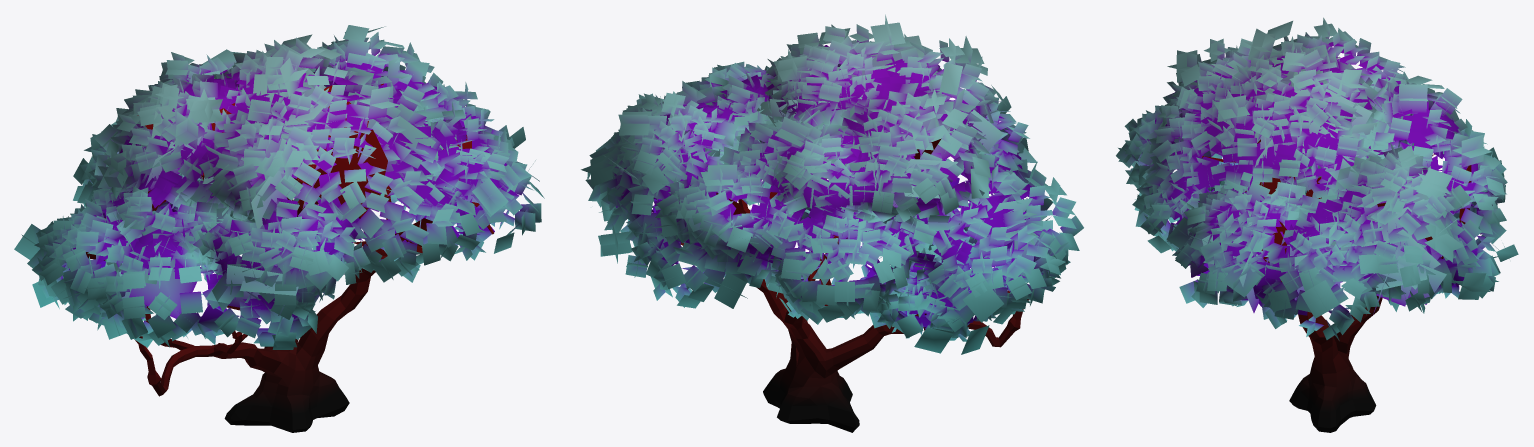
Rendered from SM_Env_Tree_Pohutukawa_01.glb.
3 views of the same model, side by side, from view 1: azimuth 30°, elevation 25°; view 2: azimuth 150°, elevation 25°; view 3: azimuth 270°, elevation 25° (orthographic). The views are drawn at different scales.
Visible parts, largest first — view 1: SM_Env_Tree_Pohutukawa_01_LOD0, SM_Env_Tree_Pohutukawa_01_Branches_LOD0; view 2: SM_Env_Tree_Pohutukawa_01_LOD0; view 3: SM_Env_Tree_Pohutukawa_01_LOD0, SM_Env_Tree_Pohutukawa_01_Branches_LOD0.
Part boxes in pixels (x1,y1,x2,y2): SM_Env_Tree_Pohutukawa_01_LOD0: (14, 25, 544, 432); SM_Env_Tree_Pohutukawa_01_Branches_LOD0: (86, 83, 479, 310); SM_Env_Tree_Pohutukawa_01_LOD0: (581, 14, 1083, 432); SM_Env_Tree_Pohutukawa_01_LOD0: (1116, 17, 1518, 432); SM_Env_Tree_Pohutukawa_01_Branches_LOD0: (1202, 139, 1471, 262).
Size of what is drawn, in the model's own units: 9.44 by 7.33 by 7.39.
